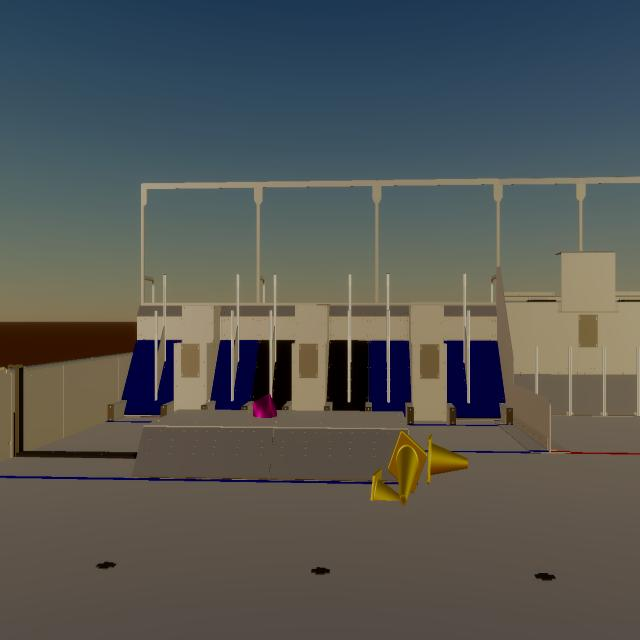frc_cone: (388, 430, 427, 506), (427, 434, 468, 484), (370, 468, 400, 501)
frc_cube: (253, 394, 277, 418)
